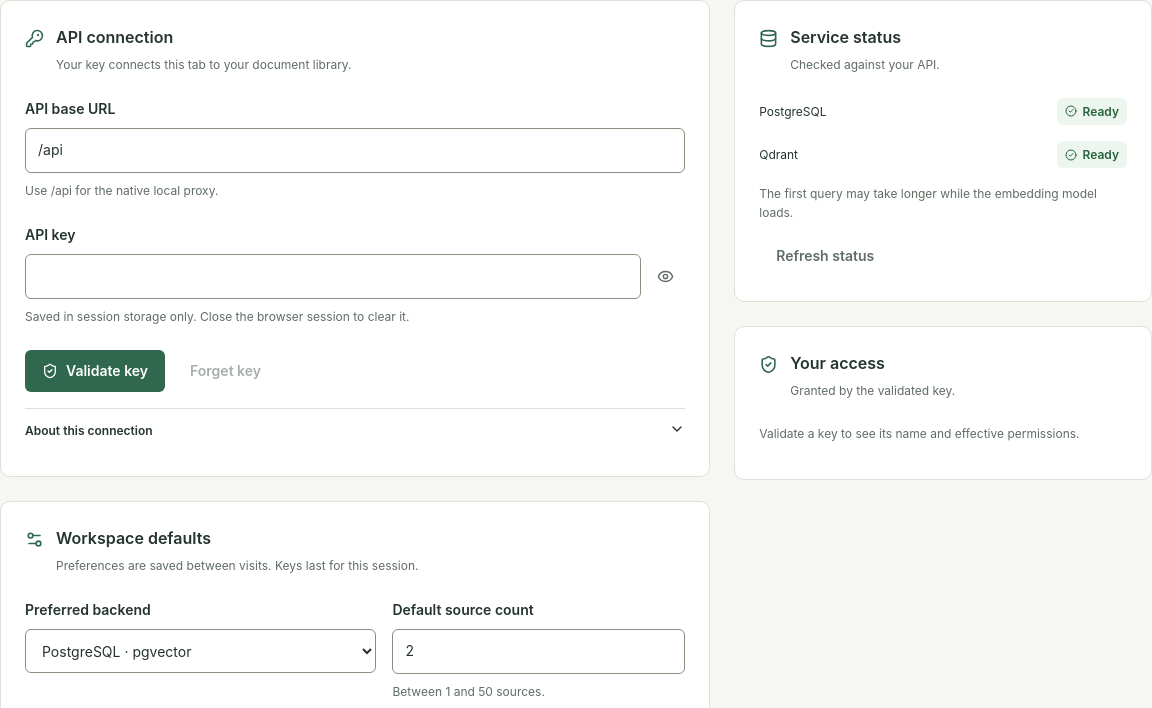
Test: Settings and scope flow › validates a key, shows effective scopes/readiness and never persists the key locally
Type "private-test-value" into the password field labelled "API key" at (333, 276), box [25, 254, 641, 298]
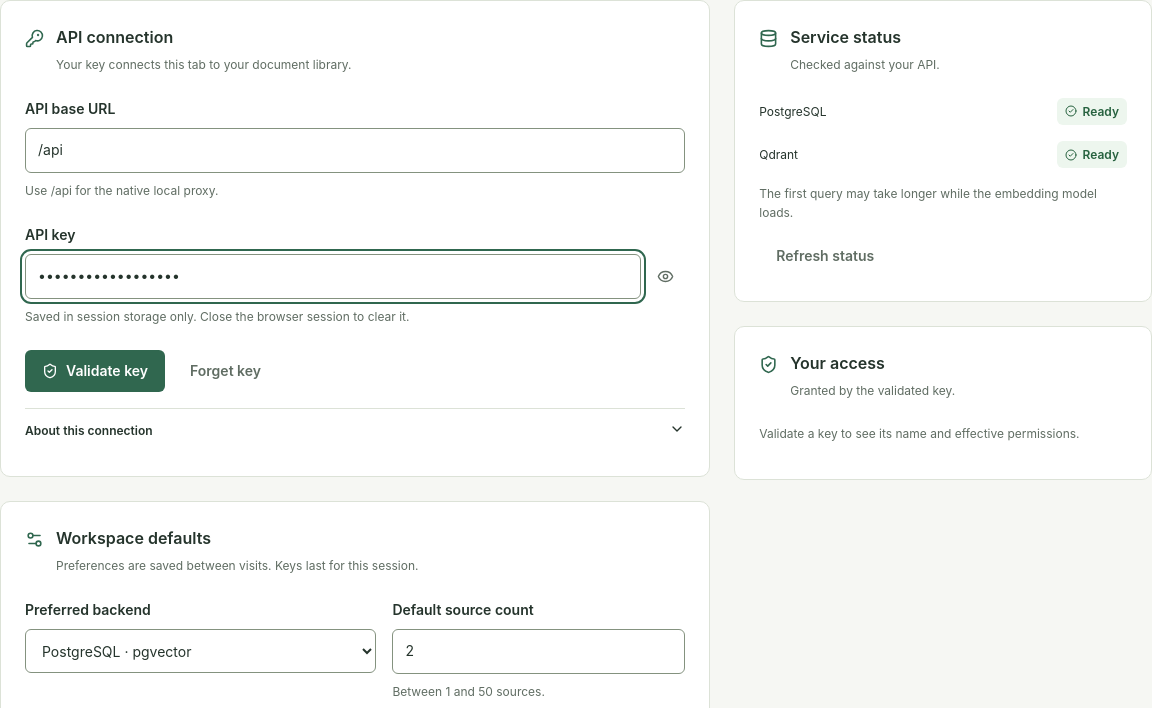
Click the button "Validate key" at (95, 371), box [25, 350, 165, 392]
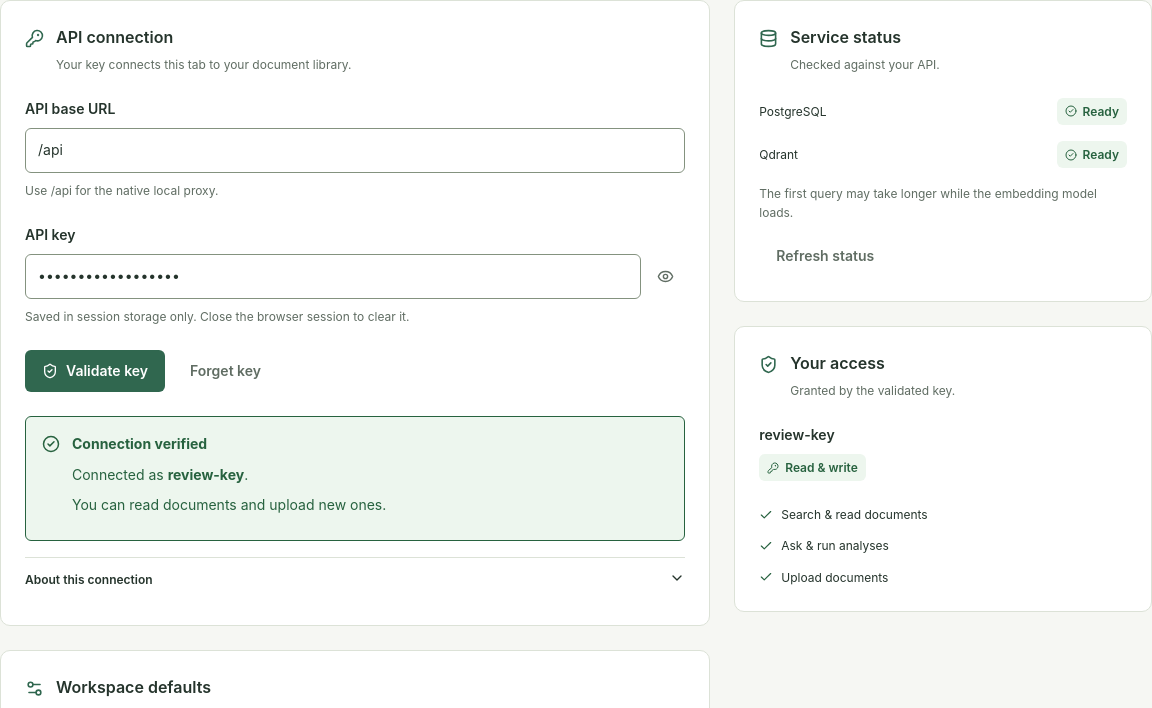
Expected: the text "Connection verified" is shown, [72, 435, 207, 452]
Expected: the text "review-key" next to "Connected as" is shown, [168, 466, 244, 482]
Expected: the text "Read & write" is shown, [759, 454, 866, 481]
